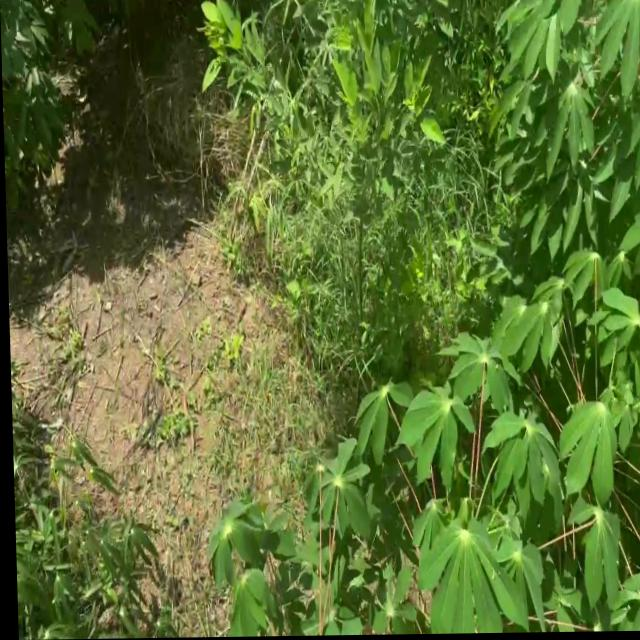Maleza: (169, 0, 422, 354), (320, 10, 507, 282)
Mosca: (536, 462, 558, 481)
